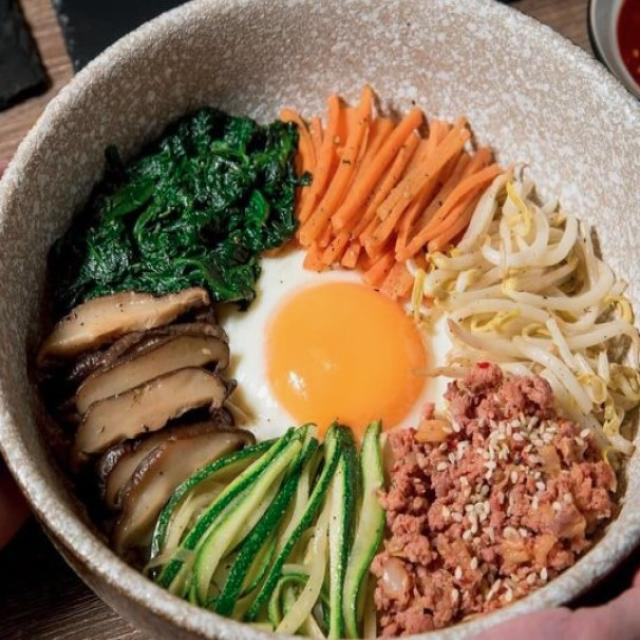Carbohydrate: (201, 205, 504, 517)
Kaow-Yum: (2, 0, 640, 640)
Protein: (376, 358, 613, 635), (218, 234, 452, 479)
Vegetable: (38, 108, 380, 640), (277, 89, 638, 422)
